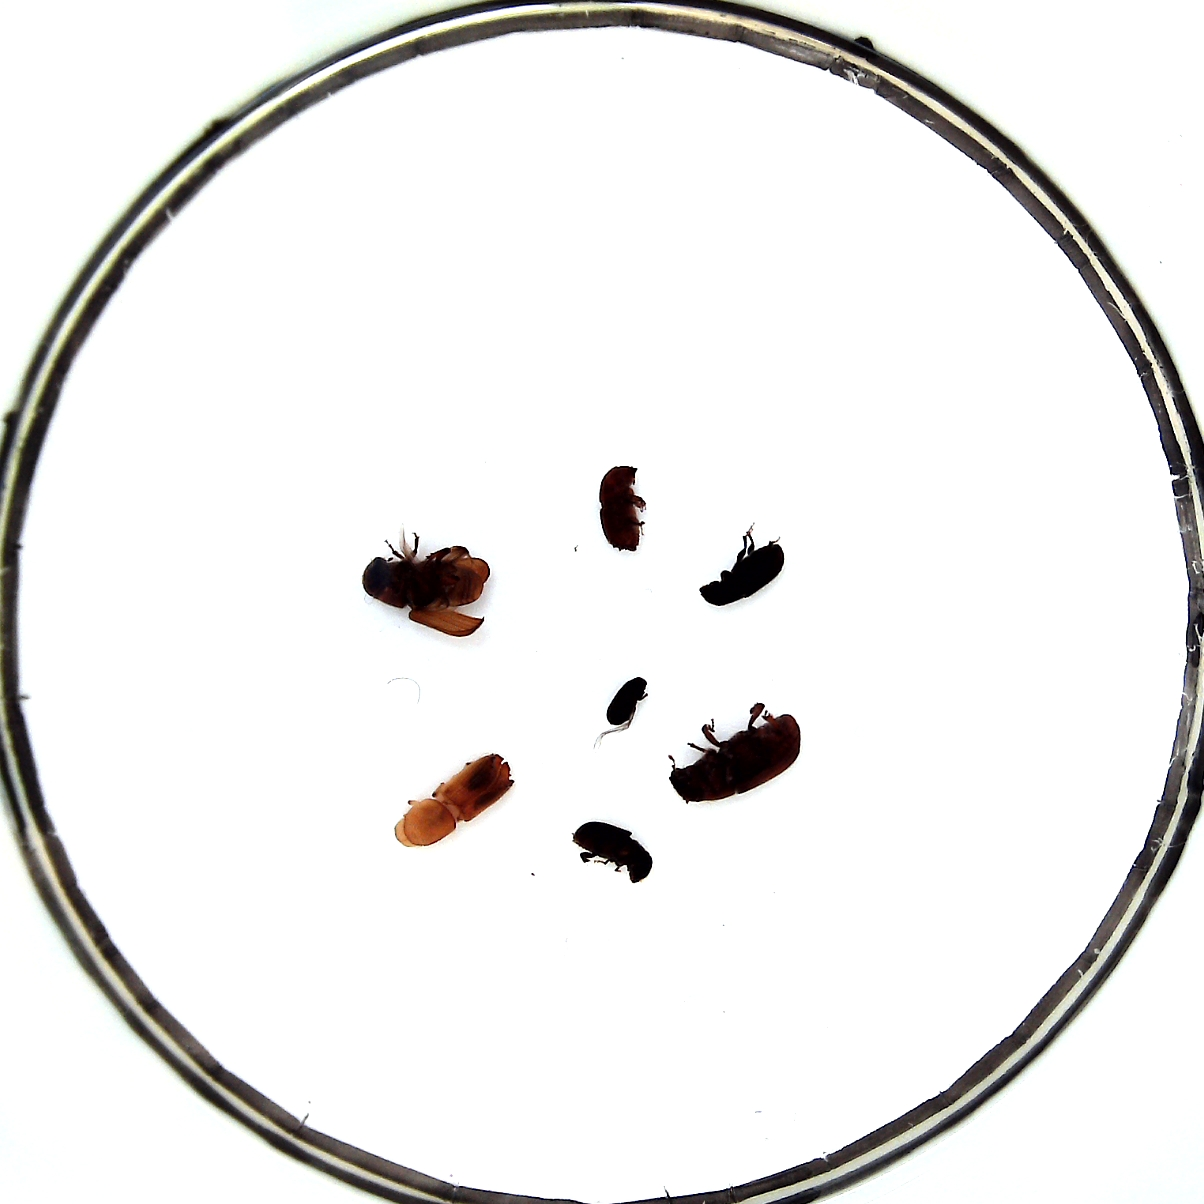Boerner: (393, 753, 515, 847)
Leconte: (363, 545, 490, 637), (667, 714, 800, 802)
armandi: (699, 545, 785, 606), (573, 820, 652, 884)
coleoptera: (608, 676, 647, 724)
linnaeus: (599, 465, 644, 551)
